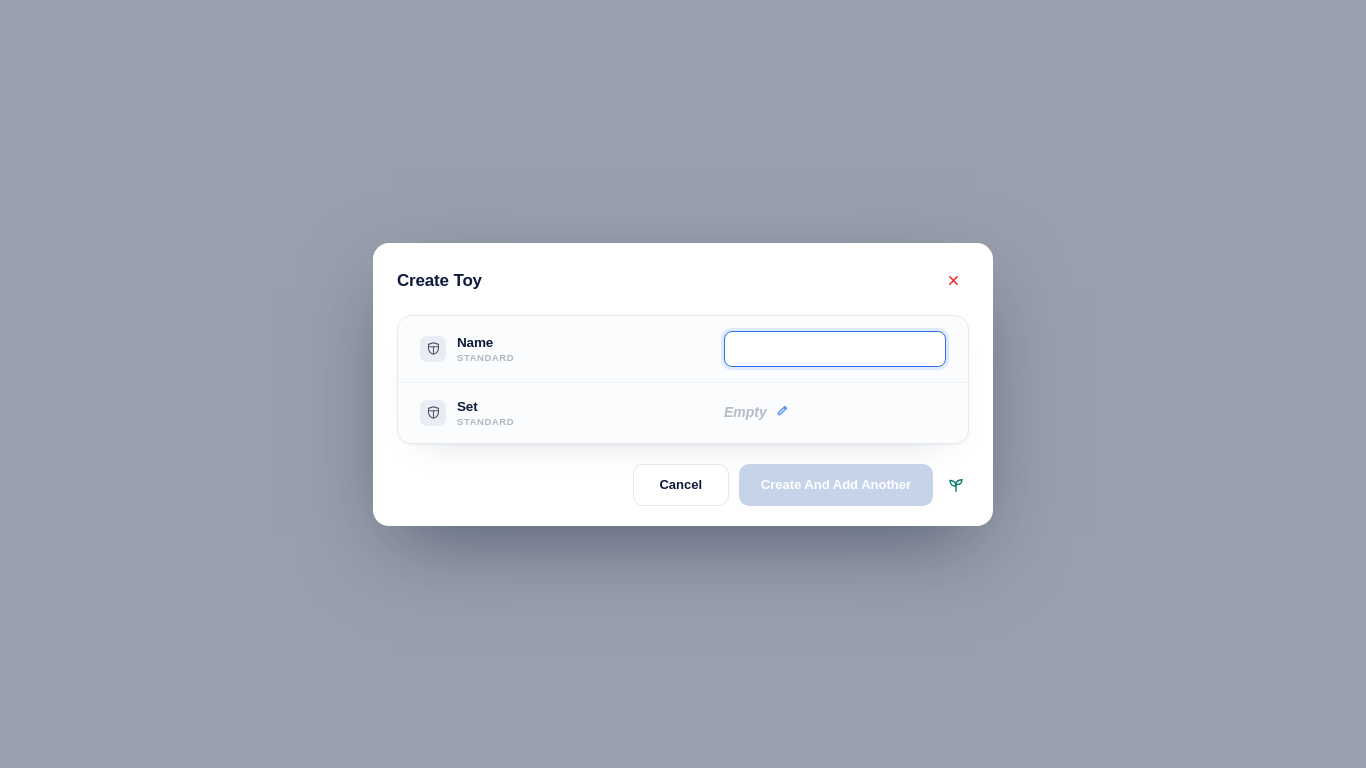
Test: ToyCreateModal › beginner hint by the Create button › swaps to the mass-input-on hint when mass input mode is on
Click the button named "Beginner hint": point(956, 484) [943,464,969,506]
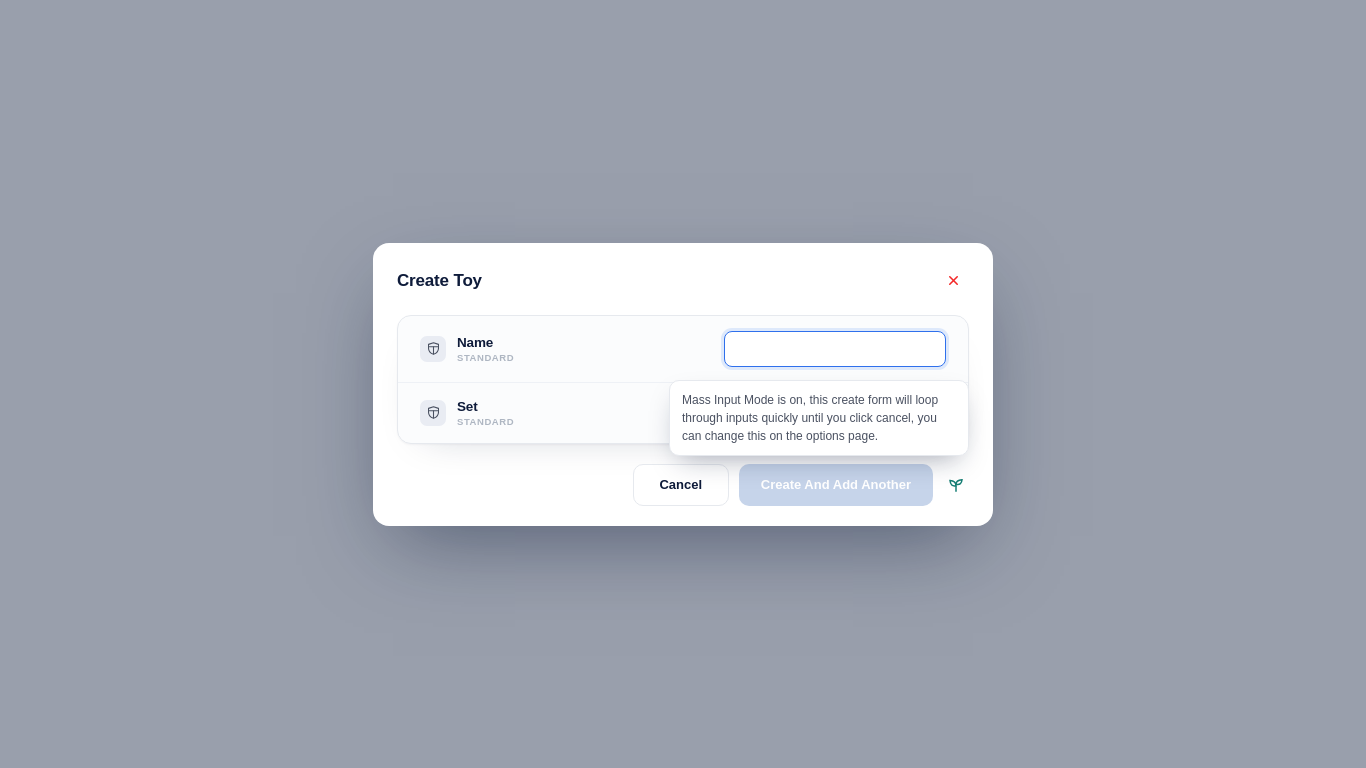
Check: the tooltip shows "Mass Input Mode is on, this create form will loop through inputs", box [682,392,938,442]
